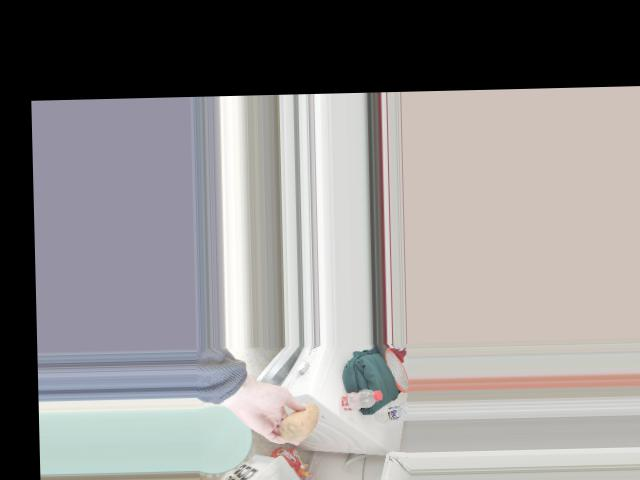sweet_potato: (273, 398, 319, 438)
